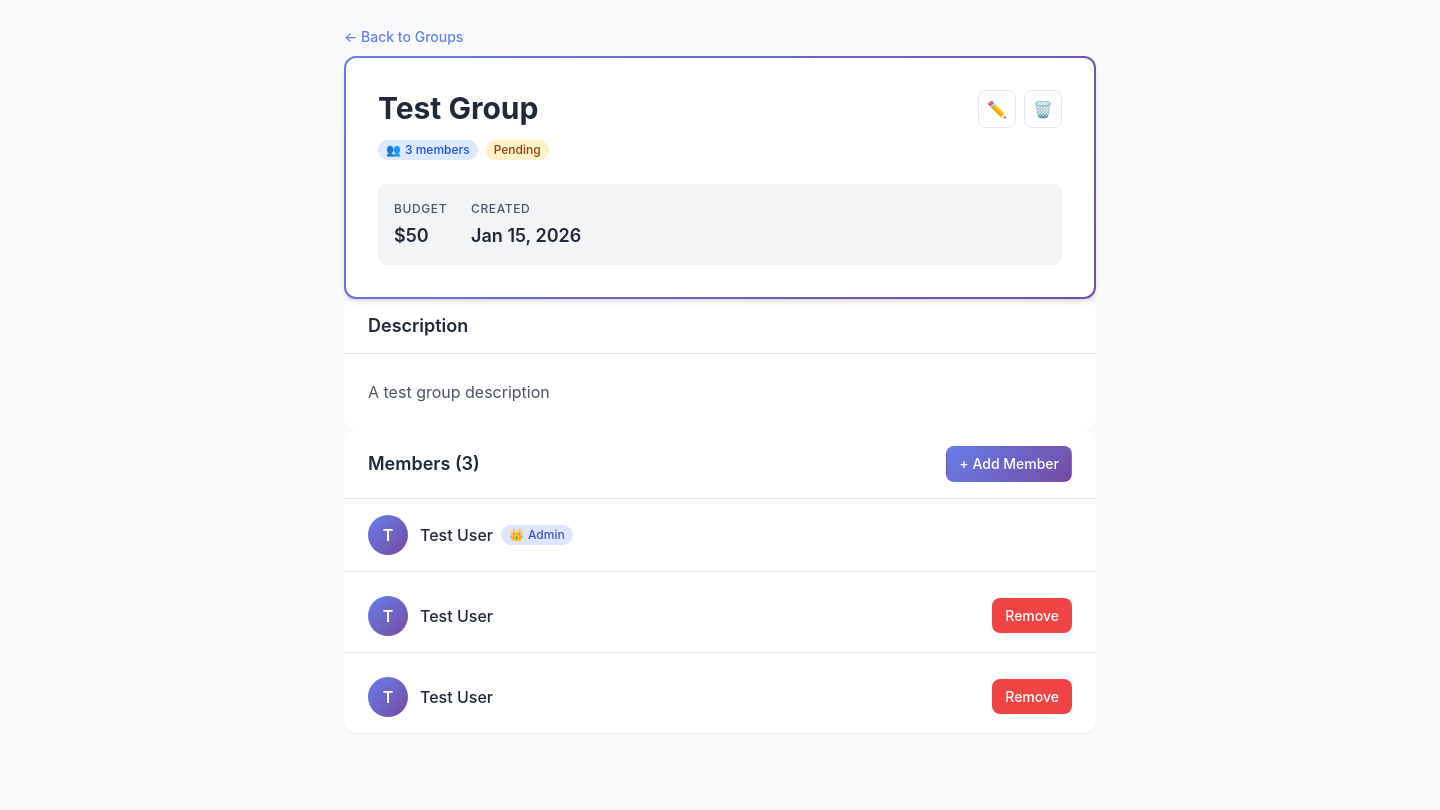
Test: GroupDetailComponent › Add Member › should show add member modal
Click the button with test id "add-member-btn". click: (1009, 464)
box: [946,446,1072,482]
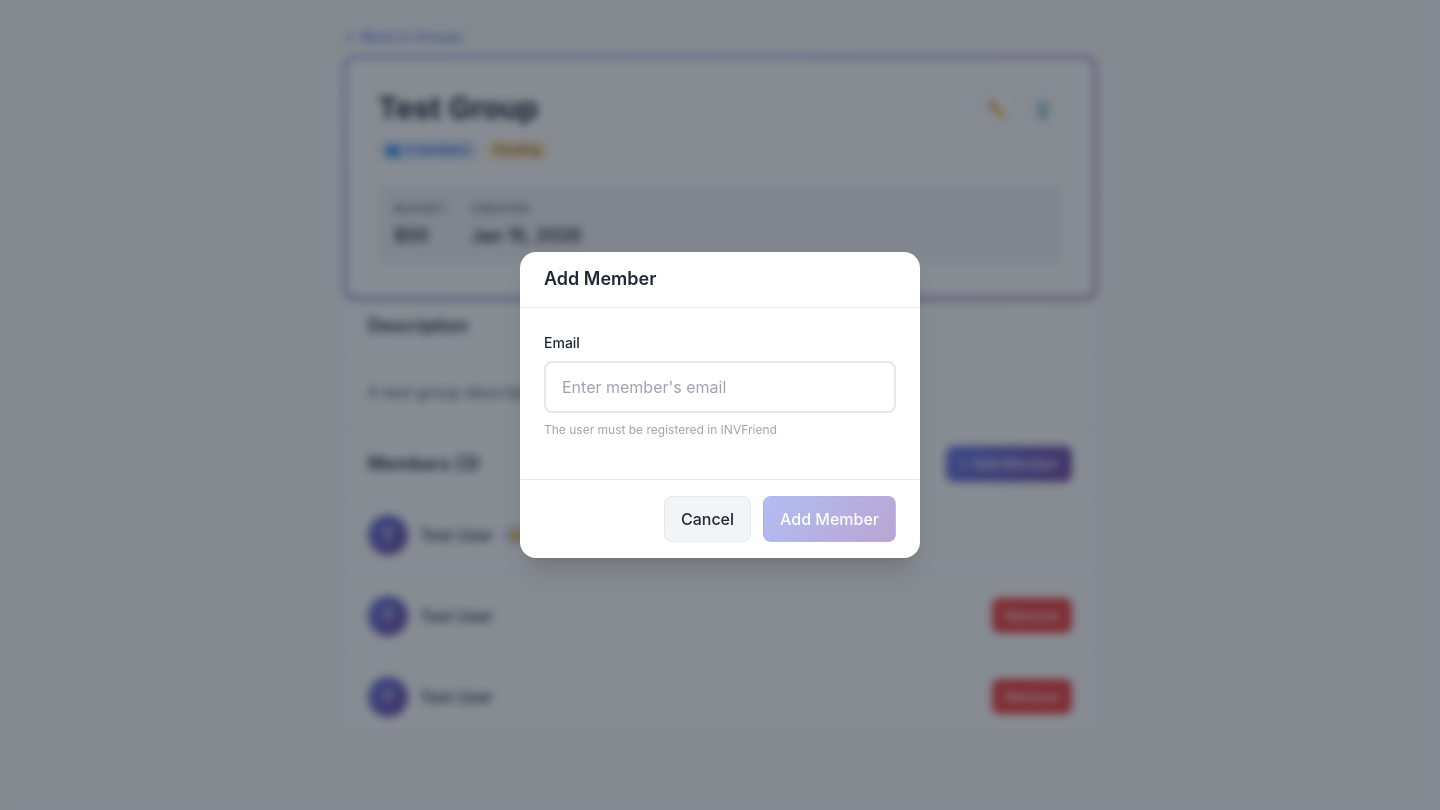
Expected: the dialog with test id "add-member-modal" is shown
